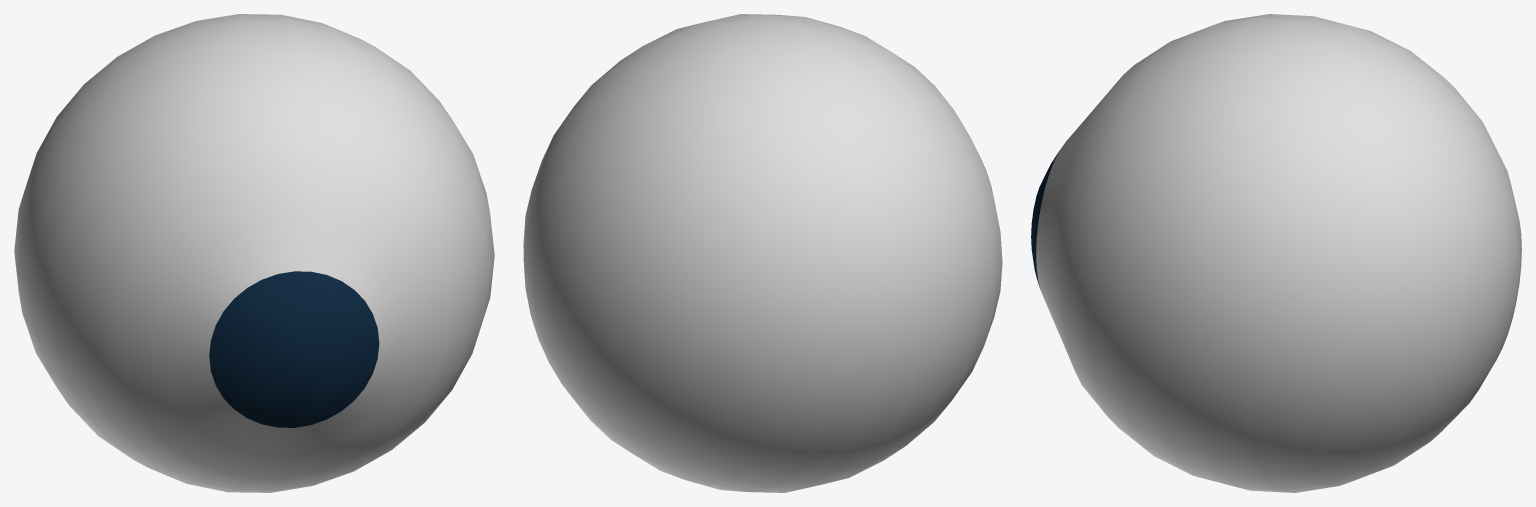
The model's file is Mata.glb.
3 renders of one model, left to right at view 1: azimuth 30°, elevation 25°; view 2: azimuth 150°, elevation 25°; view 3: azimuth 270°, elevation 25°, orthographic.
Parts seen in each view (by area): view 1: sclera cornea; view 2: sclera cornea; view 3: sclera cornea.
Boxes of the visible parts, <box> form: sclera cornea: <box>14,14,494,492</box>; sclera cornea: <box>523,14,1002,492</box>; sclera cornea: <box>1031,14,1521,492</box>.
Size of the model in its own units: 0.0163 by 0.0164 by 0.0167.
